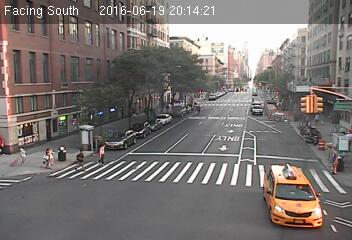neg: (217, 85, 242, 120), (236, 161, 261, 195), (13, 78, 34, 105), (83, 80, 102, 105), (243, 90, 260, 112), (198, 95, 215, 117), (116, 105, 131, 125), (313, 133, 323, 147), (82, 119, 92, 132)
pos: (324, 146, 347, 177), (72, 145, 92, 171), (40, 146, 58, 171), (94, 142, 111, 166), (15, 143, 31, 165)
